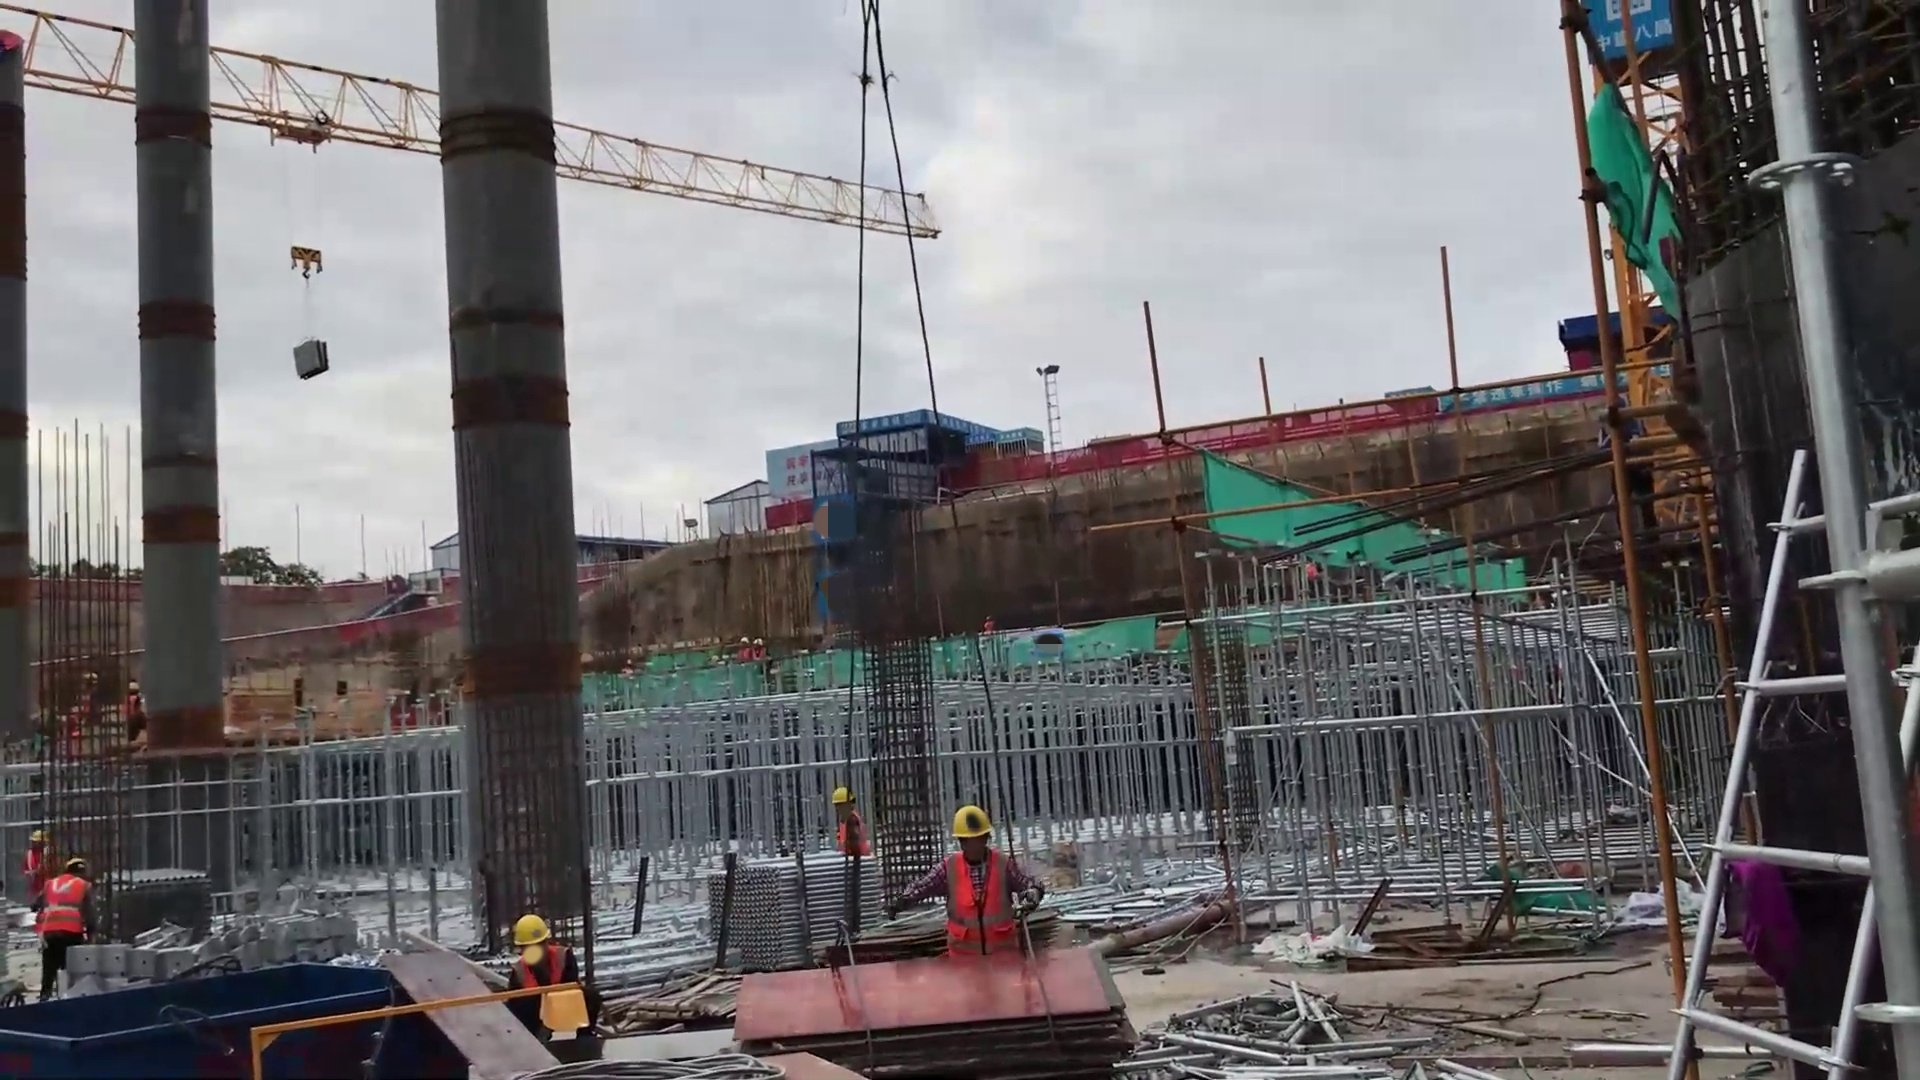board: (735, 945, 1136, 1080)
fence: (1122, 396, 1385, 464)
helmet: (950, 804, 995, 846), (513, 913, 551, 948), (829, 786, 857, 807), (28, 830, 49, 843), (128, 681, 140, 691), (752, 638, 764, 647), (740, 636, 750, 644)
hook: (288, 241, 325, 281)
hopper: (1, 963, 470, 1079)
person: (880, 803, 1048, 956), (503, 914, 602, 1042), (29, 857, 100, 1004), (828, 783, 873, 862), (125, 680, 147, 746), (738, 634, 752, 664), (751, 637, 767, 662)
scaffold: (704, 849, 888, 969), (100, 863, 217, 950)
slogan: (1445, 361, 1605, 413), (1588, 1, 1677, 67), (836, 415, 1024, 444)
vest: (939, 848, 1019, 956), (34, 872, 92, 934), (508, 942, 571, 987), (23, 843, 54, 895), (836, 812, 873, 857), (125, 695, 139, 717), (736, 645, 750, 661), (751, 646, 764, 660)
